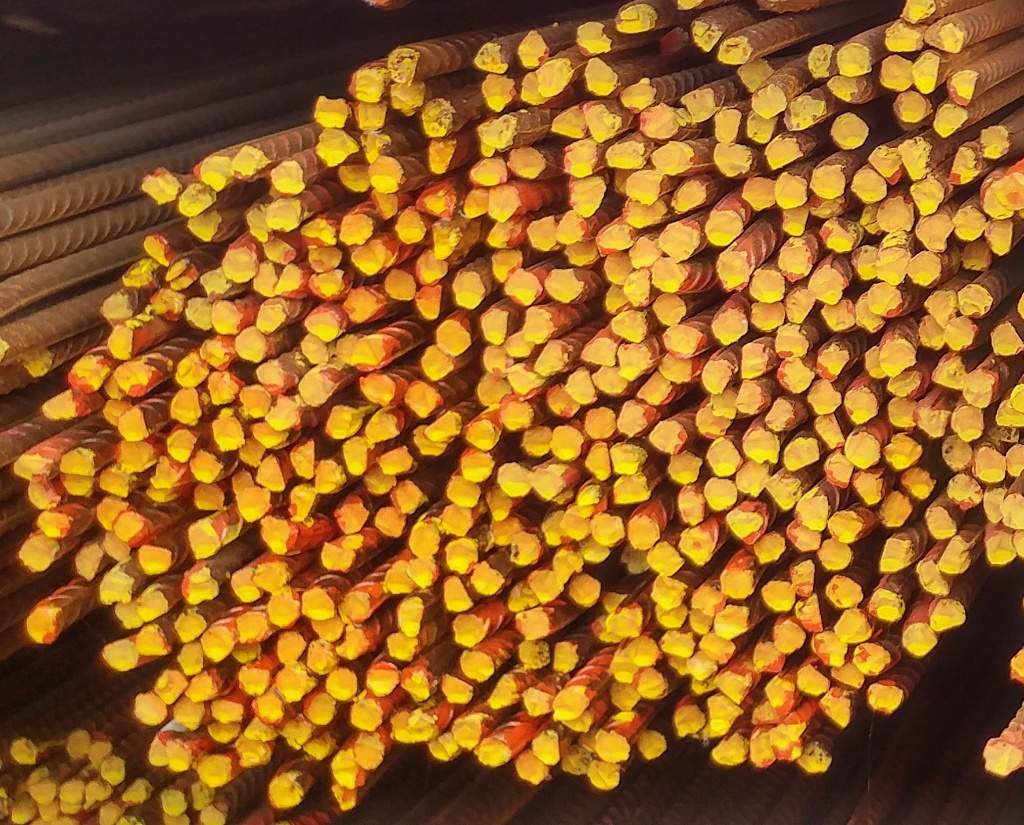dipstick: (15, 536, 63, 573), (565, 176, 606, 217), (658, 221, 701, 260), (531, 465, 572, 505), (795, 594, 837, 632), (140, 166, 182, 204), (704, 696, 744, 735), (784, 94, 826, 131), (211, 407, 246, 451), (879, 339, 918, 378), (596, 217, 635, 256), (881, 433, 921, 471), (984, 739, 1024, 777), (808, 264, 845, 305), (507, 363, 548, 400), (196, 155, 237, 192), (504, 269, 543, 307), (365, 405, 404, 443), (811, 631, 851, 668), (706, 437, 743, 477), (317, 130, 358, 166), (651, 141, 693, 176), (899, 137, 933, 180), (812, 414, 850, 452), (536, 59, 574, 97), (329, 750, 367, 788), (181, 567, 219, 605), (705, 209, 744, 246), (869, 144, 905, 184), (714, 251, 750, 291), (844, 432, 881, 470), (831, 113, 869, 150), (742, 427, 780, 464), (545, 268, 585, 303), (640, 104, 680, 139), (925, 19, 966, 53), (624, 196, 667, 228), (924, 290, 961, 327), (712, 308, 749, 345), (652, 256, 689, 293), (876, 197, 914, 233), (765, 135, 804, 170), (89, 496, 128, 531), (452, 271, 486, 311), (115, 440, 155, 474), (916, 215, 953, 251), (778, 245, 814, 282), (777, 358, 814, 394), (783, 436, 820, 472), (349, 67, 386, 103), (222, 246, 258, 283), (27, 474, 64, 510), (875, 247, 910, 285), (947, 473, 982, 511), (626, 171, 664, 206), (369, 155, 404, 193), (820, 218, 859, 252), (680, 527, 714, 566), (518, 30, 552, 69), (179, 182, 218, 216), (422, 98, 455, 138), (290, 440, 323, 480), (25, 609, 65, 642), (880, 55, 916, 91), (617, 344, 653, 380), (302, 688, 338, 724), (946, 70, 983, 105), (808, 164, 845, 199), (951, 405, 986, 442), (916, 561, 953, 596), (901, 623, 938, 658), (794, 495, 831, 530), (445, 538, 480, 575), (388, 479, 425, 514), (344, 287, 381, 322), (269, 161, 306, 196), (264, 396, 301, 431), (736, 459, 770, 497), (531, 342, 569, 376), (584, 58, 618, 96), (70, 357, 108, 391), (649, 421, 688, 454), (482, 73, 515, 112), (507, 147, 546, 180), (877, 492, 913, 527), (738, 58, 774, 93), (697, 403, 732, 439), (477, 371, 513, 406), (436, 320, 471, 356), (420, 345, 455, 381), (910, 177, 944, 214), (868, 588, 905, 622), (844, 387, 878, 424), (714, 142, 751, 176), (749, 269, 786, 303), (551, 686, 588, 720), (527, 569, 564, 603), (635, 369, 672, 403), (500, 393, 534, 430), (405, 380, 439, 417), (326, 405, 363, 439), (201, 626, 235, 663), (939, 535, 972, 573), (852, 643, 891, 675), (417, 188, 456, 220), (188, 521, 220, 560), (809, 379, 844, 414), (751, 84, 786, 119), (714, 604, 749, 639), (590, 512, 625, 547), (173, 696, 208, 731), (836, 43, 872, 77), (774, 173, 808, 209), (868, 283, 904, 317), (835, 609, 871, 643), (659, 348, 693, 384), (307, 640, 341, 676), (236, 733, 272, 767), (235, 327, 269, 363), (948, 147, 981, 184), (826, 575, 863, 608), (866, 682, 903, 715), (816, 344, 849, 381), (617, 400, 650, 437), (475, 735, 512, 768), (387, 48, 420, 85), (313, 96, 350, 129), (264, 199, 301, 232), (101, 291, 134, 328), (942, 434, 974, 472), (663, 326, 701, 358), (564, 140, 596, 178), (396, 206, 428, 244), (261, 516, 292, 555), (308, 270, 348, 300), (931, 356, 966, 390), (852, 471, 887, 505), (714, 670, 749, 704), (651, 292, 686, 326), (521, 71, 556, 105), (552, 106, 587, 140), (400, 667, 434, 702), (934, 104, 970, 137), (821, 298, 857, 331), (973, 446, 1006, 482), (828, 510, 864, 543), (648, 543, 684, 576), (516, 750, 549, 786), (611, 310, 647, 343), (527, 215, 560, 251), (587, 106, 620, 142), (336, 624, 369, 660), (765, 679, 797, 716), (611, 443, 648, 475), (488, 186, 520, 223), (333, 503, 370, 535), (200, 338, 237, 370), (101, 569, 133, 606), (785, 286, 816, 324), (613, 472, 651, 503), (625, 268, 656, 306), (170, 387, 201, 425), (912, 52, 940, 94), (305, 310, 344, 340), (36, 505, 75, 535), (606, 141, 646, 170), (617, 4, 657, 33), (958, 284, 992, 318), (743, 176, 777, 210), (880, 538, 914, 572), (629, 236, 663, 270), (299, 372, 333, 406), (113, 510, 147, 544), (908, 250, 941, 285), (851, 169, 886, 202), (930, 599, 965, 632), (774, 325, 807, 360), (569, 572, 602, 607), (551, 426, 584, 461), (497, 463, 532, 496), (548, 382, 581, 417), (576, 22, 611, 55), (311, 609, 346, 642), (315, 460, 348, 495), (175, 353, 208, 388), (116, 362, 149, 397), (886, 20, 922, 52), (945, 315, 977, 351), (699, 632, 735, 664), (567, 369, 599, 405), (465, 419, 501, 451), (426, 138, 458, 174), (417, 248, 449, 284), (412, 424, 448, 456), (301, 588, 337, 620), (102, 639, 138, 671), (187, 211, 223, 243), (338, 214, 375, 245), (893, 92, 931, 122), (299, 218, 337, 248), (232, 145, 270, 175), (902, 466, 936, 499), (797, 741, 831, 774), (772, 620, 805, 654), (595, 730, 629, 763), (651, 576, 685, 609), (669, 451, 702, 485), (488, 673, 521, 707), (672, 180, 706, 213), (365, 662, 398, 696), (134, 692, 168, 725), (190, 450, 223, 484), (807, 43, 839, 78), (953, 206, 985, 241), (761, 580, 796, 612), (787, 519, 822, 551), (728, 512, 763, 544), (472, 561, 504, 596), (441, 503, 473, 538), (275, 668, 307, 703), (238, 486, 270, 521), (963, 372, 994, 408), (824, 452, 855, 488), (628, 515, 659, 551), (607, 608, 643, 639), (445, 476, 481, 507), (155, 670, 186, 706), (711, 735, 748, 765), (789, 560, 819, 597), (591, 365, 628, 395), (253, 562, 290, 592), (828, 75, 869, 102), (856, 294, 885, 332), (677, 487, 706, 525), (985, 532, 1018, 565), (771, 728, 804, 761), (673, 704, 706, 737), (452, 614, 485, 647), (475, 41, 508, 74), (117, 408, 150, 441), (818, 539, 852, 571), (704, 478, 738, 510), (635, 667, 669, 699), (584, 406, 616, 440), (460, 650, 494, 682), (510, 532, 542, 566), (622, 79, 656, 111), (270, 773, 302, 807), (240, 384, 272, 418), (200, 267, 234, 299), (151, 289, 185, 321), (166, 429, 198, 463), (268, 594, 300, 628), (138, 624, 172, 656), (137, 588, 169, 622), (919, 315, 950, 350), (849, 245, 880, 280), (750, 301, 785, 332), (702, 360, 733, 395), (604, 254, 639, 285), (354, 735, 385, 770), (256, 455, 287, 490), (884, 371, 924, 398), (914, 408, 950, 438), (524, 306, 554, 342), (211, 299, 241, 335), (585, 443, 613, 481), (262, 237, 300, 265), (923, 507, 956, 539), (753, 641, 785, 674), (516, 607, 549, 639), (482, 344, 514, 377), (326, 668, 358, 701), (384, 560, 416, 593), (199, 753, 231, 786), (302, 332, 334, 365), (692, 585, 726, 616), (482, 116, 516, 147), (492, 249, 526, 280), (390, 81, 424, 112), (142, 234, 176, 265), (231, 568, 262, 602), (236, 611, 270, 642), (531, 730, 561, 765), (412, 285, 442, 320), (444, 575, 474, 610), (321, 542, 356, 572), (378, 445, 413, 475), (359, 374, 394, 404), (277, 631, 307, 666), (256, 299, 285, 335), (186, 295, 215, 331), (398, 597, 424, 637), (996, 172, 1024, 209), (740, 342, 768, 379), (470, 158, 507, 186), (480, 307, 507, 345), (888, 395, 920, 427), (441, 672, 473, 704), (239, 666, 271, 698), (991, 323, 1024, 354), (819, 696, 850, 729), (562, 744, 595, 775), (353, 100, 386, 131), (64, 446, 97, 477), (720, 569, 754, 599), (587, 760, 621, 790), (489, 516, 523, 546), (363, 466, 397, 496), (184, 672, 218, 702), (208, 371, 238, 405), (175, 608, 205, 642), (138, 545, 172, 575), (686, 89, 715, 124), (582, 338, 618, 366), (353, 343, 389, 371), (103, 399, 139, 427), (343, 437, 368, 477), (750, 730, 777, 767), (659, 630, 696, 657), (518, 638, 550, 669), (508, 581, 540, 612), (561, 508, 593, 539), (385, 269, 416, 301), (339, 592, 371, 623), (375, 506, 406, 538), (796, 665, 829, 695), (452, 717, 482, 750), (246, 208, 276, 241), (289, 484, 315, 522), (251, 421, 289, 447), (765, 397, 794, 431), (558, 210, 587, 244), (735, 380, 763, 415), (654, 602, 689, 630), (122, 259, 157, 287), (985, 219, 1012, 255), (983, 188, 1014, 219), (610, 681, 641, 712), (409, 526, 440, 557), (747, 111, 777, 143), (461, 452, 493, 482), (350, 701, 382, 731), (960, 242, 993, 271), (694, 19, 723, 52), (523, 687, 556, 716), (429, 732, 462, 761), (309, 244, 342, 273), (112, 600, 145, 629), (718, 37, 752, 65), (755, 532, 785, 563), (628, 636, 658, 667), (523, 425, 553, 456), (605, 283, 635, 314), (387, 633, 418, 663), (61, 470, 94, 498), (107, 326, 134, 360), (715, 107, 741, 142), (253, 263, 279, 298), (981, 126, 1009, 158), (553, 640, 581, 672), (177, 642, 205, 674), (338, 166, 372, 192), (638, 731, 668, 760), (690, 650, 718, 681), (193, 482, 224, 510), (1000, 493, 1024, 529), (210, 697, 243, 723), (564, 241, 599, 265), (408, 712, 436, 742), (254, 694, 284, 722), (505, 330, 536, 357), (165, 740, 191, 772), (983, 488, 1006, 524), (122, 777, 152, 804), (579, 539, 611, 564), (996, 399, 1024, 427), (10, 737, 38, 765), (276, 264, 304, 292), (781, 209, 810, 236), (902, 1, 936, 24), (865, 346, 889, 378), (100, 756, 126, 785), (66, 728, 91, 758), (88, 740, 113, 769), (147, 736, 171, 766), (463, 189, 488, 217), (688, 610, 715, 635), (161, 789, 186, 815), (1005, 443, 1024, 477), (752, 702, 779, 725), (11, 800, 38, 823), (328, 785, 354, 808), (29, 780, 56, 802), (60, 781, 85, 804), (1010, 384, 1024, 413)
